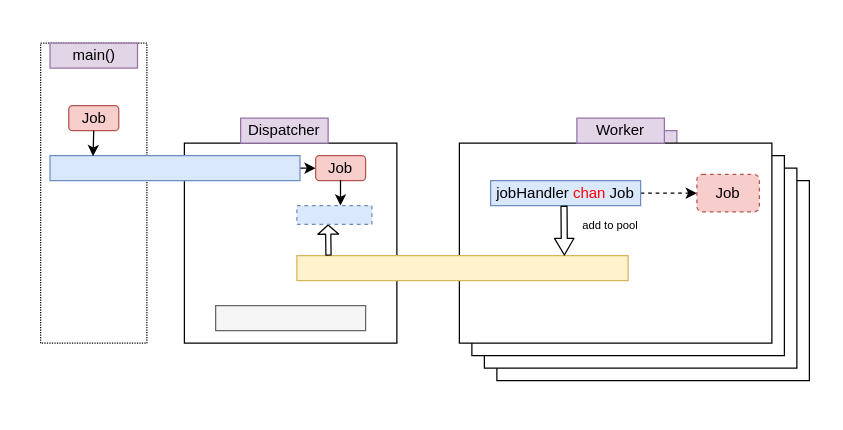
Some shapes in this 843 by 430 pixel diagram are drawn without their labels. The shapes that lost their labels are listed below. From the top down, each one's centre as x and y in pixels, then its label:
[174,167]: jobQueue chan Job
[334,214]: jobHandler
[462,267]: workerPool chan chan Job
[290,317]: maxWorkers
